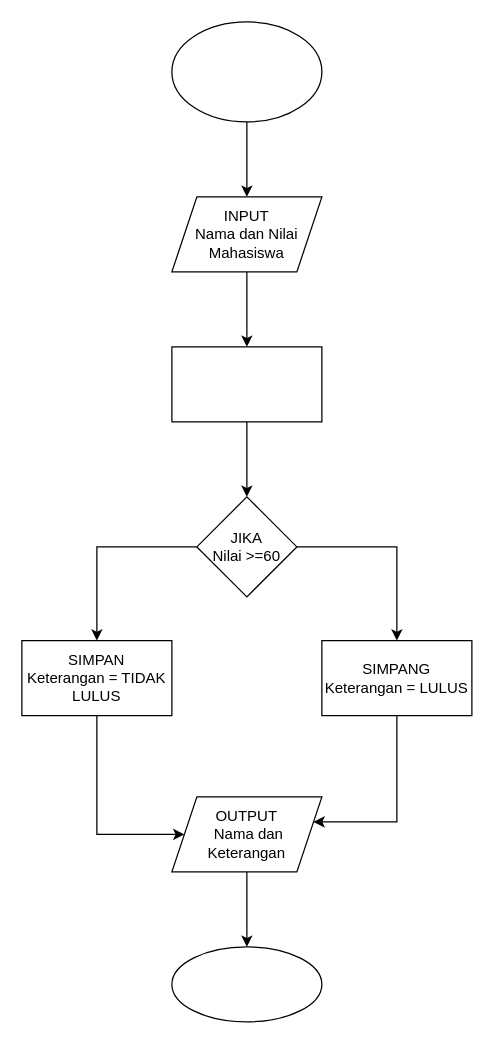
This 494x1044 diagram has some shape labels left out. The box of each missing label's shape, as (x1, y1, x2, y2) in pixels:
END: (171, 946, 322, 1022)
SIMPAN Nama dan Nilai Mahasiswa: (171, 346, 322, 422)
START: (171, 21, 322, 122)
